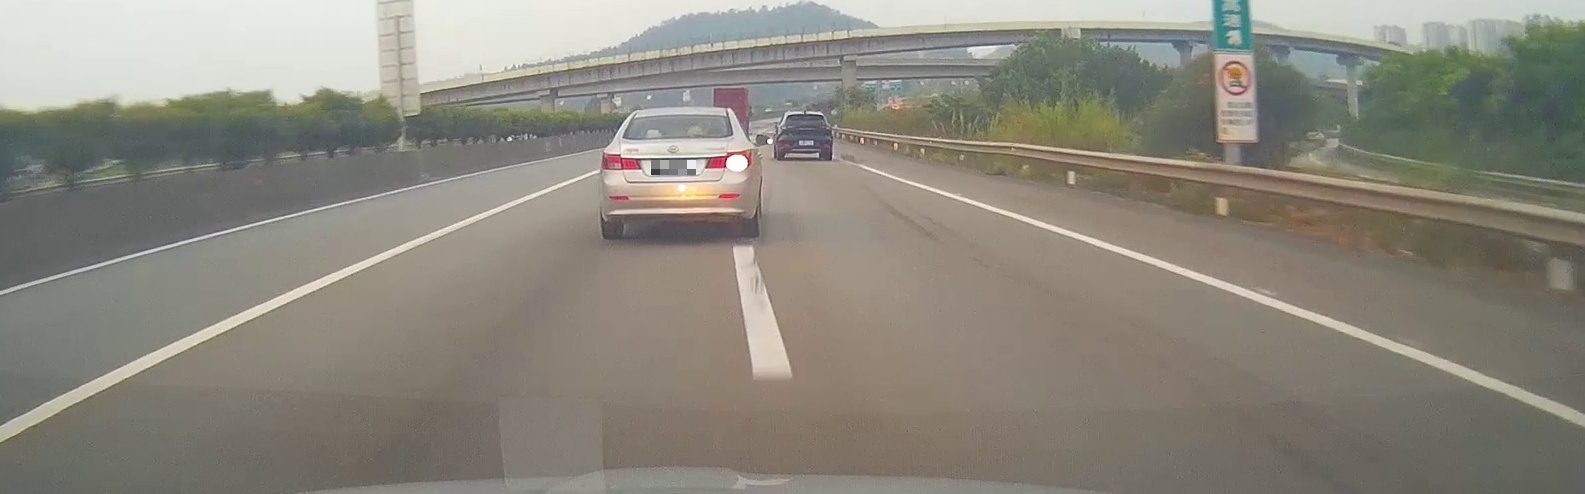L_light: (600, 151, 642, 170), (781, 125, 792, 130)
R_light: (706, 149, 753, 170), (819, 125, 831, 130)
T_light: (666, 114, 688, 119), (800, 114, 810, 117)
day-no: (775, 111, 833, 161)
day-right: (599, 106, 760, 238)
plate_1: (651, 160, 696, 175)
